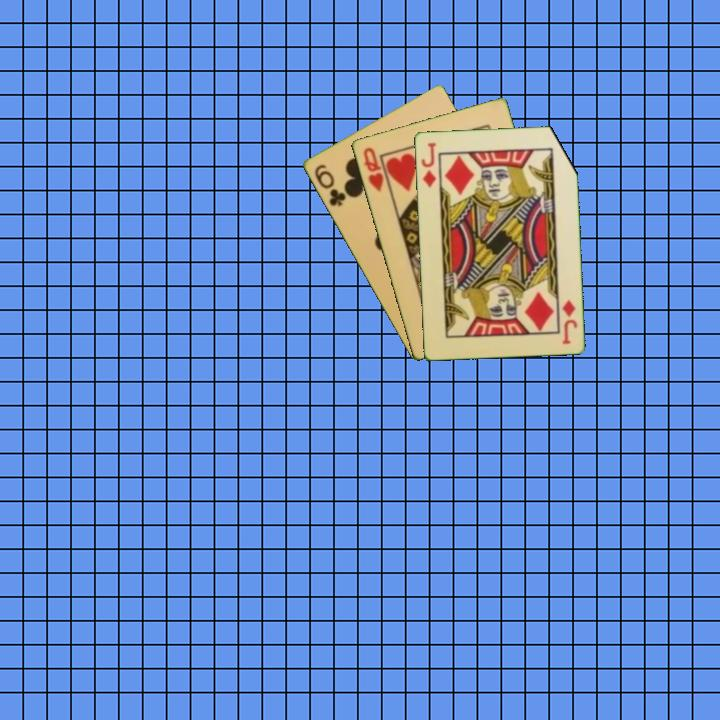6c: (310, 161, 348, 209)
Jd: (558, 296, 580, 346), (417, 139, 438, 190)
Qh: (359, 144, 386, 195)
